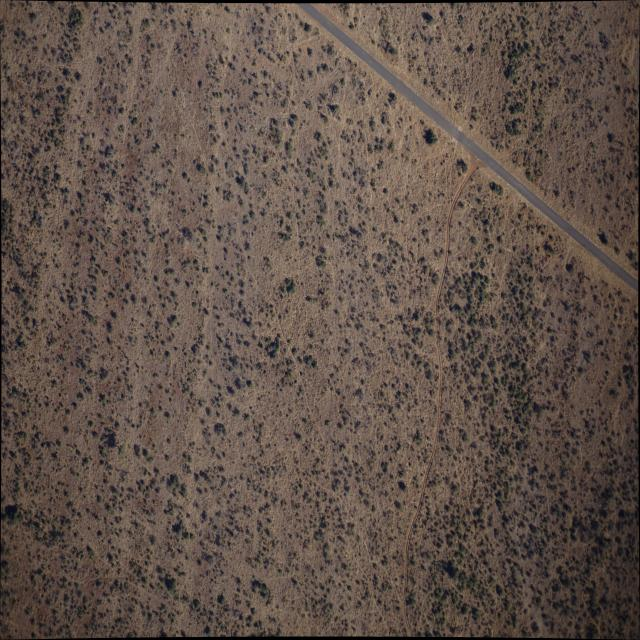elephant: (470, 48, 477, 57), (458, 11, 461, 15)
